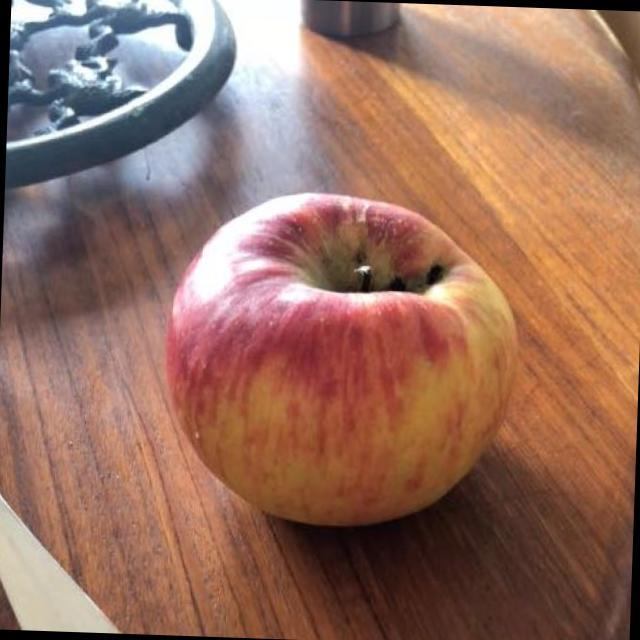Apple: (150, 174, 532, 550)
